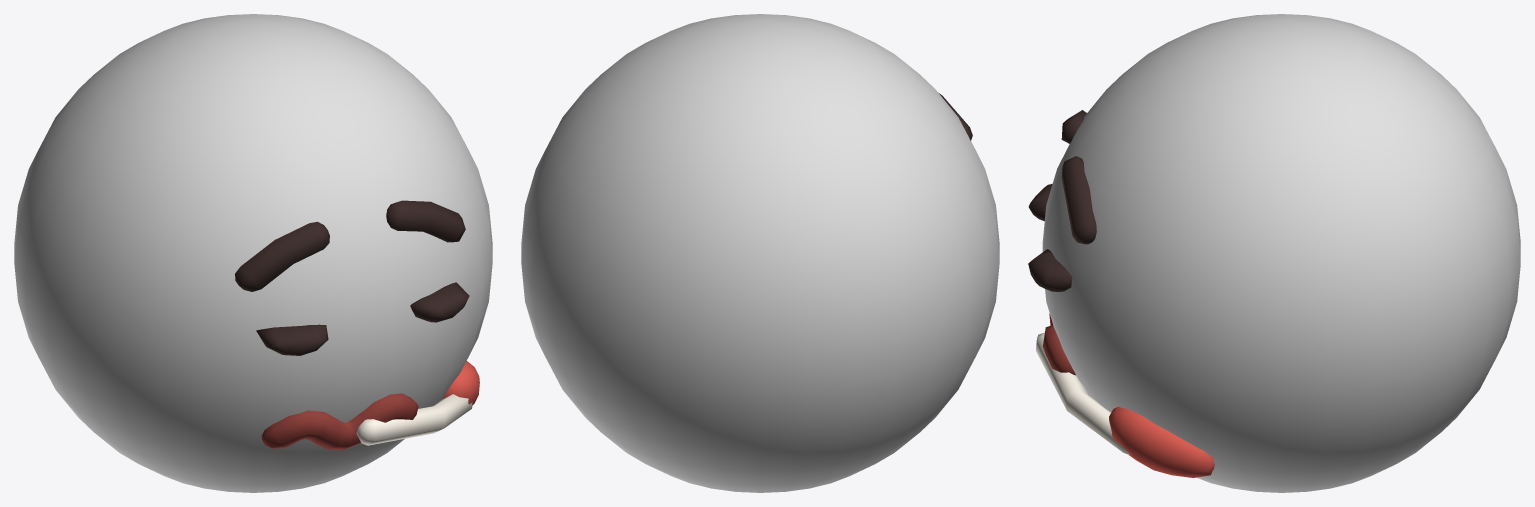
The model's file is face_sick.glb.
3 renders of one model, left to right at view 1: azimuth 30°, elevation 25°; view 2: azimuth 150°, elevation 25°; view 3: azimuth 270°, elevation 25°, orthographic.
Visible parts, largest first — view 1: face_sick; view 2: face_sick; view 3: face_sick.
Part boxes in pixels (x1=…): face_sick: x1=14, y1=14, x2=492, y2=492; face_sick: x1=521, y1=14, x2=999, y2=492; face_sick: x1=1028, y1=14, x2=1520, y2=492.
Size of the model in its own units: 1 by 1 by 1.02.
